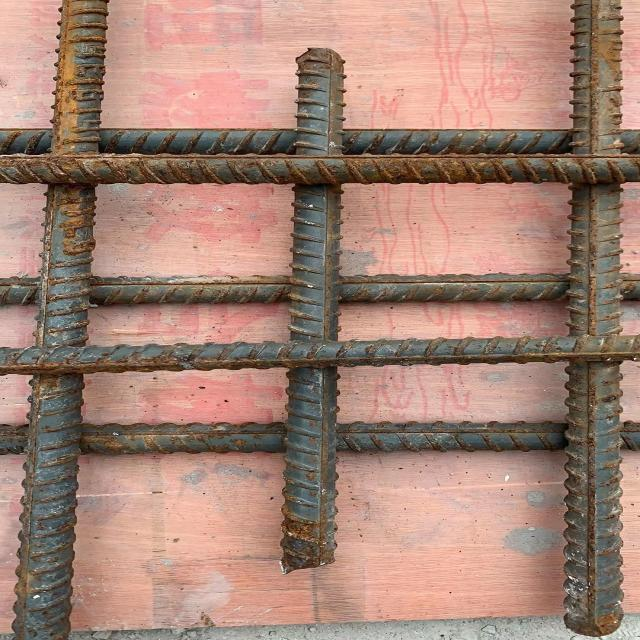ribbed bar: (8, 0, 114, 639), (559, 0, 627, 637), (279, 47, 349, 573), (0, 334, 639, 377), (0, 271, 639, 308), (0, 420, 637, 454), (0, 155, 639, 186), (0, 127, 639, 157)
